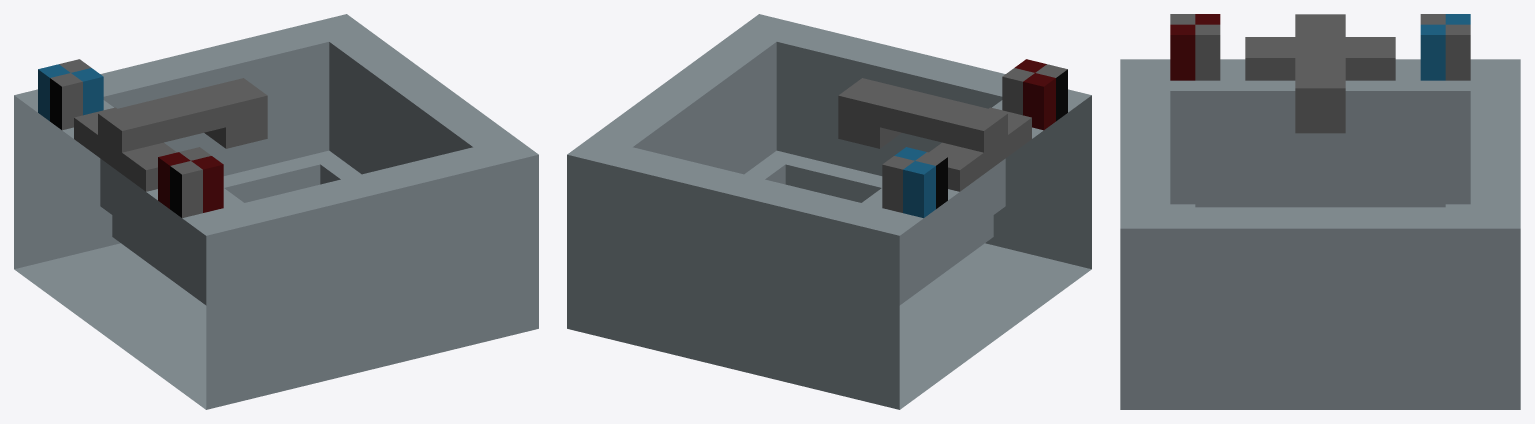
Rendered from sink_01.fbx.
3 renders of one model, left to right at view 1: azimuth 30°, elevation 25°; view 2: azimuth 150°, elevation 25°; view 3: azimuth 270°, elevation 25°, orthographic. The views are drawn at different scales.
Visible parts, largest first — view 1: pCube2; view 2: pCube2; view 3: pCube2.
Part boxes in pixels (left/top/right/bottom): pCube2: left=14, top=14, right=538, bottom=409; pCube2: left=567, top=14, right=1091, bottom=409; pCube2: left=1120, top=14, right=1520, bottom=409.
Bounding box in the file's own units: 100 × 62.5 × 100.
